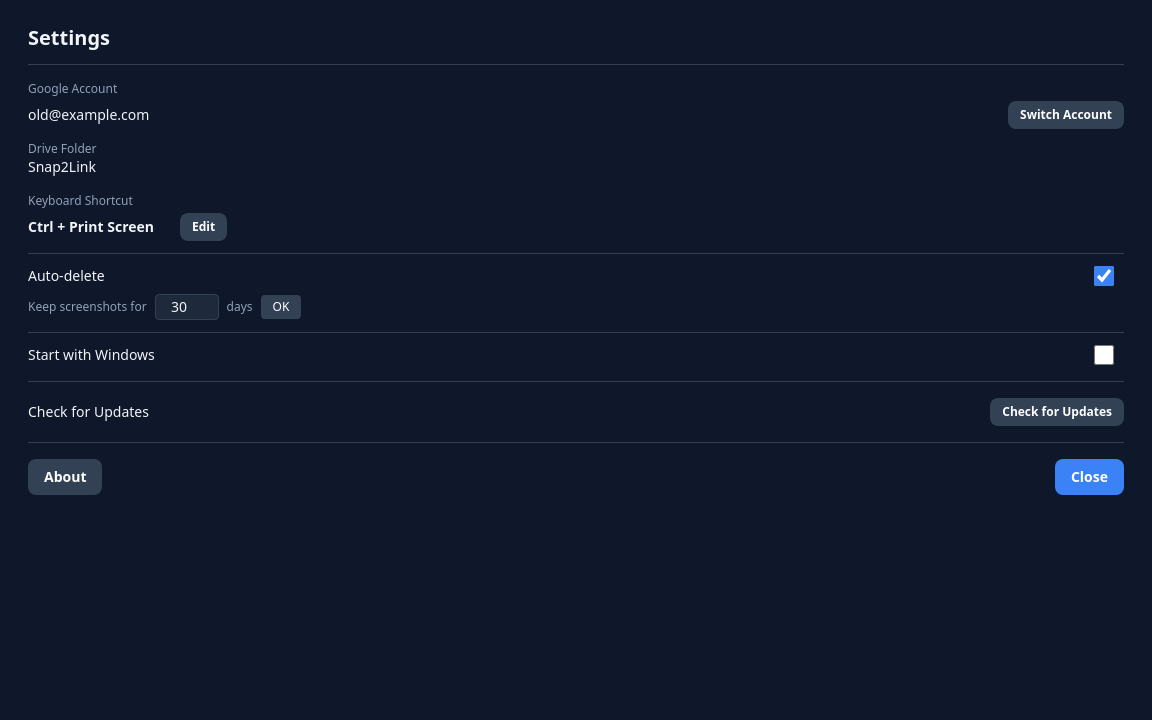
Test: <SettingsWindow /> › disconnects then re-authenticates when Switch Account is clicked
Expected: the text "old@example.com" is shown, [28, 105, 161, 125]
Click the button "Switch Account" at {"x": 1066, "y": 115}, box [1008, 101, 1124, 129]
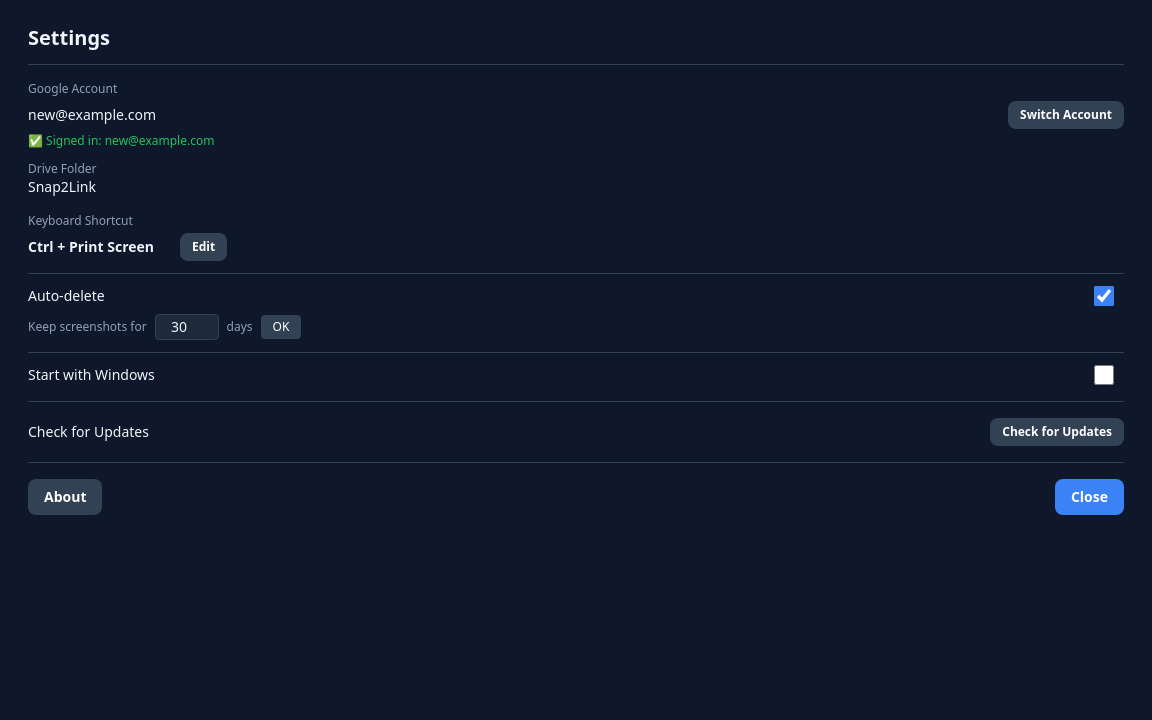
Expected: the text "new@example.com" is shown, [28, 105, 168, 125]
